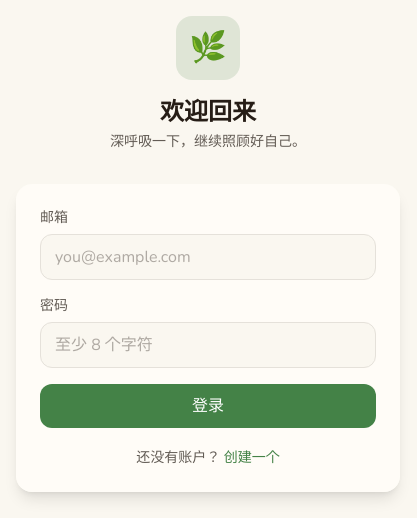
Test: LoginPage › toggles to register mode
The image size is (417, 518).
Click the button "创建一个" at (252, 458), box [224,448,280,468]
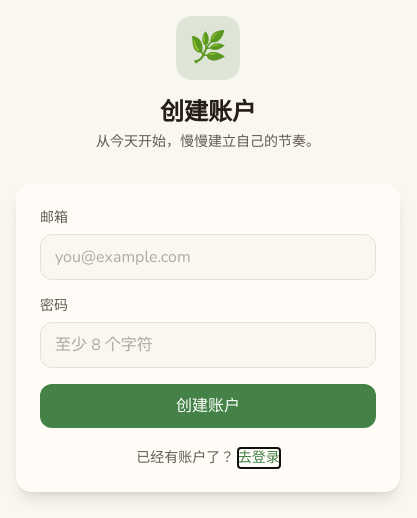
Check: the heading "创建账户" is shown, box [160,96,256,128]
